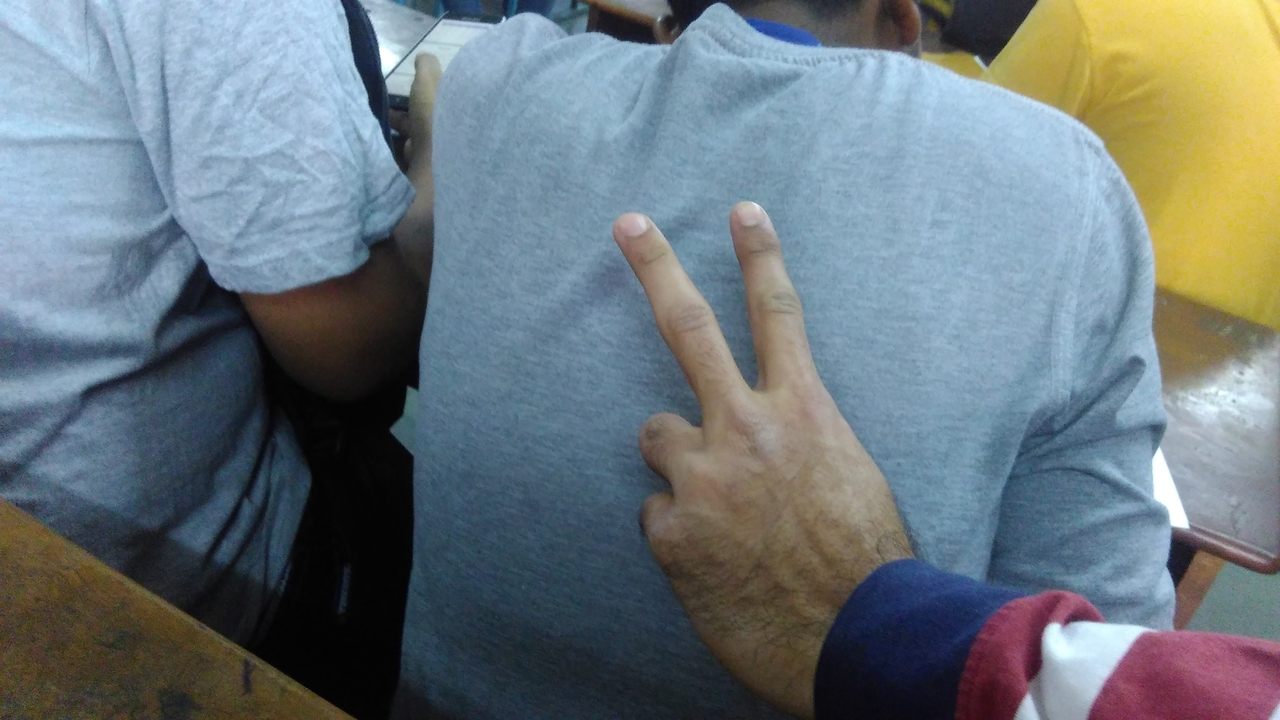fingertip: (722, 190, 786, 250), (606, 198, 670, 258)
